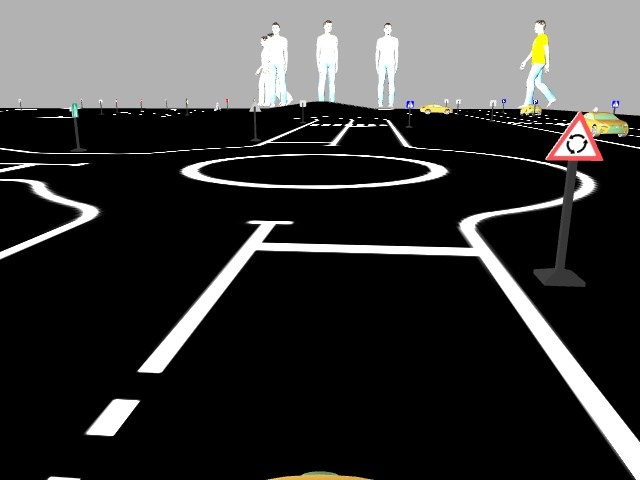Roundabout: (541, 109, 605, 162)
